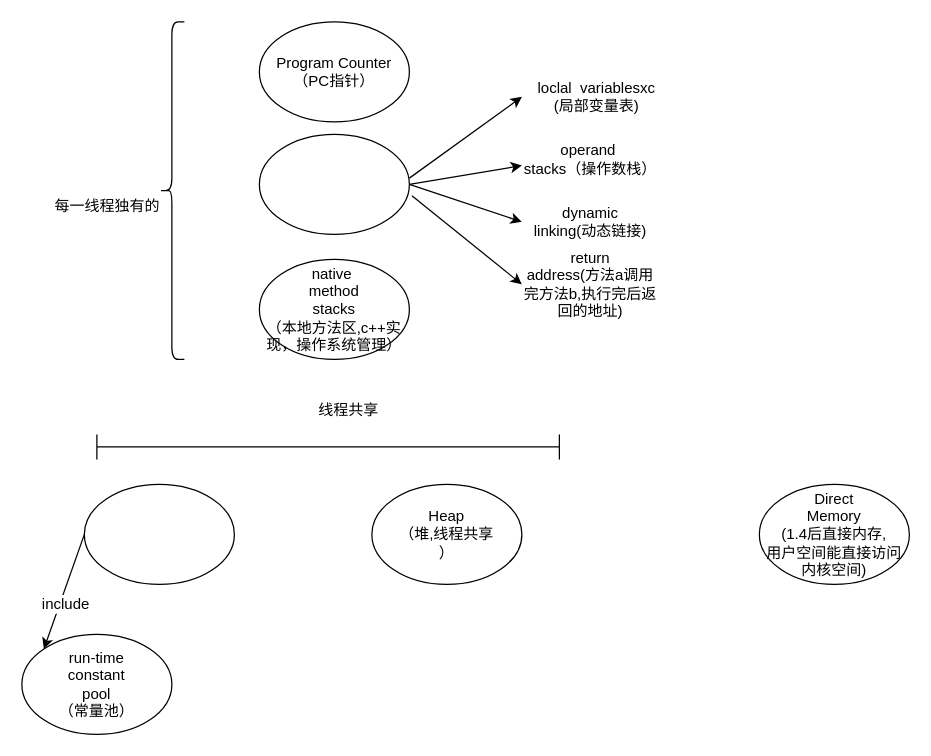
Some shapes in this 931 by 756 pixel diagram are drawn without their labels. Each missing label, with the centre of its shape:
JVM stacks （java线程独有的） 每一个方法对应的栈帧: (333,183)
method area (class信息) method area perm meta space: (158,533)
